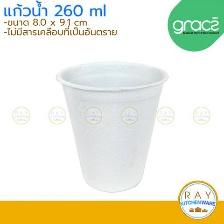paper_cup: (51, 55, 172, 195)
